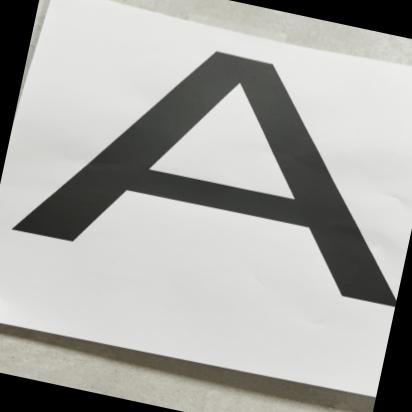seat: (0, 0, 412, 353), (0, 0, 412, 349), (21, 0, 412, 327)
